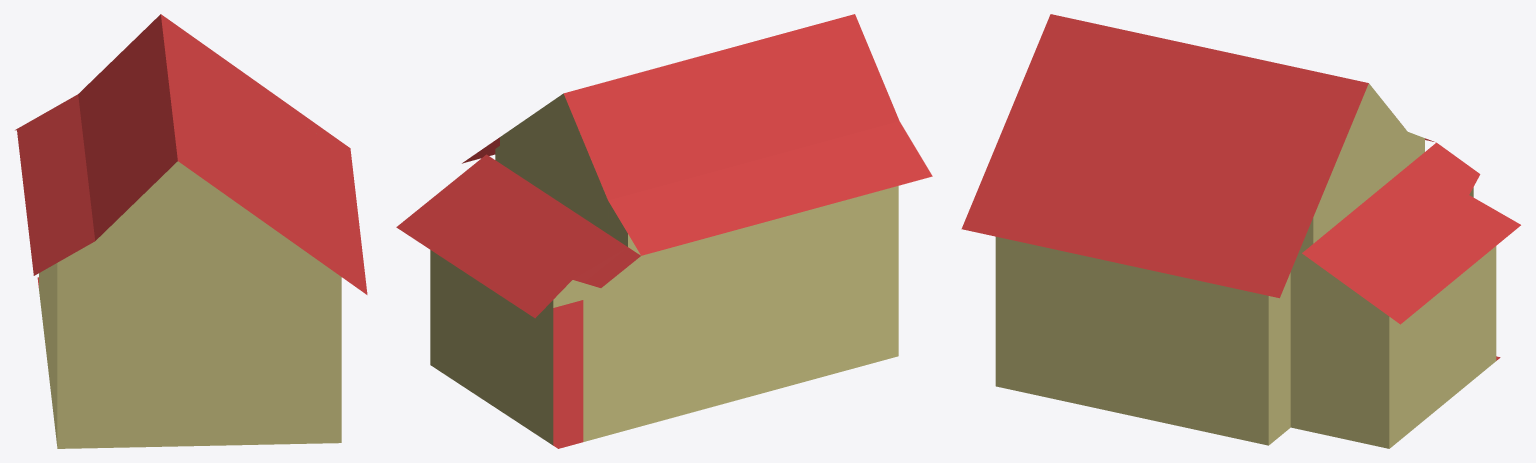
3 renders of one model, left to right at view 1: azimuth 30°, elevation 25°; view 2: azimuth 150°, elevation 25°; view 3: azimuth 270°, elevation 25°, orthographic. The views are drawn at different scales.
Bounding box in the file's own units: 18.68 × 21.96 × 13.15.
